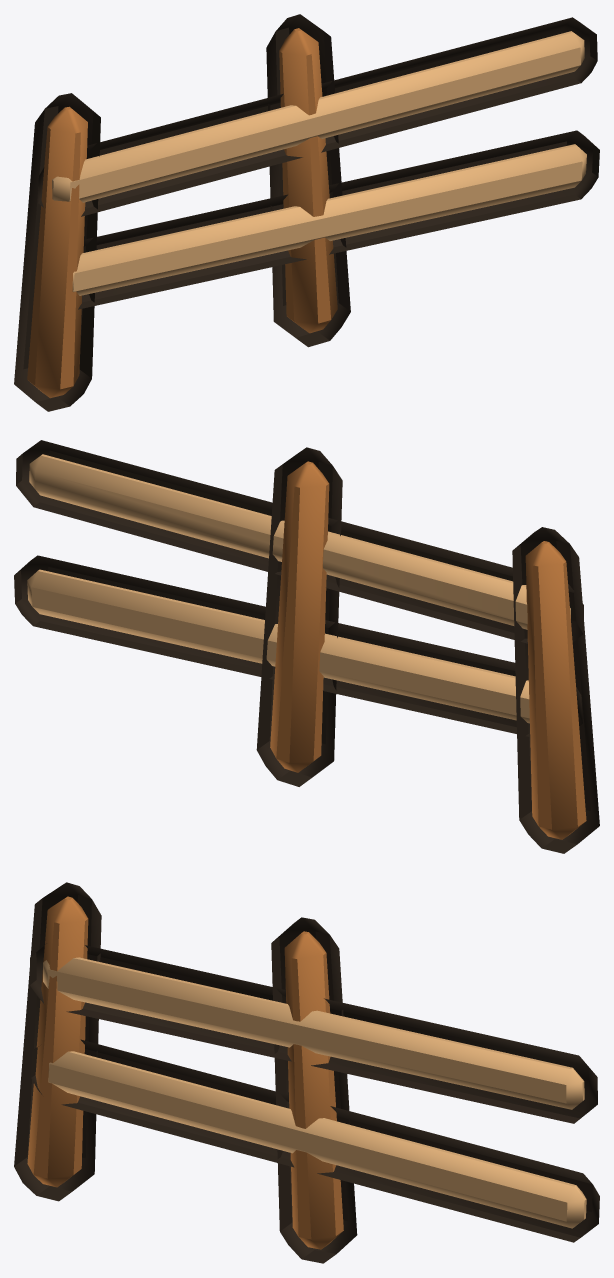
File: fence.glb
3 views of the same model, one above another, from view 1: azimuth 30°, elevation 25°; view 2: azimuth 150°, elevation 25°; view 3: azimuth 330°, elevation 25° (orthographic). The views are drawn at different scales.
Visible parts, largest first — view 1: fence; view 2: fence; view 3: fence.
Part boxes in pixels (bbox=[...]): fence: bbox=[14, 14, 599, 411]; fence: bbox=[14, 440, 599, 853]; fence: bbox=[14, 882, 599, 1263].
Size of the model in its own units: 1.64 by 0.8963 by 0.1971.
